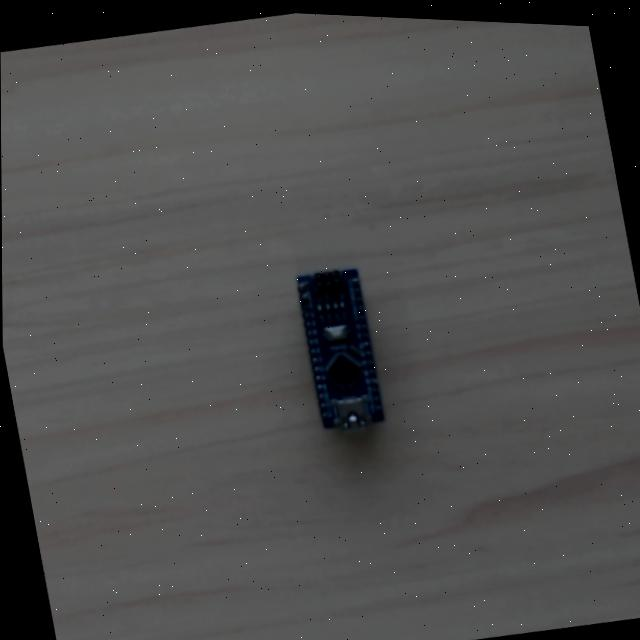Arduino-Nano: (295, 266, 384, 435)
